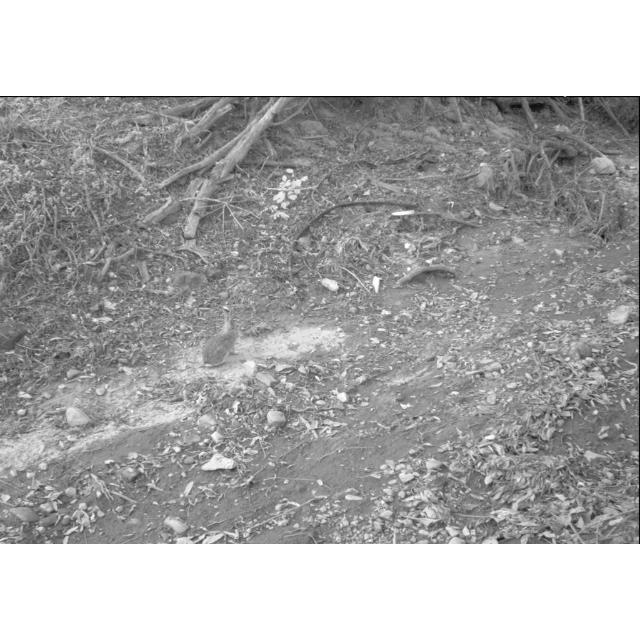animals: (195, 313, 245, 372)
